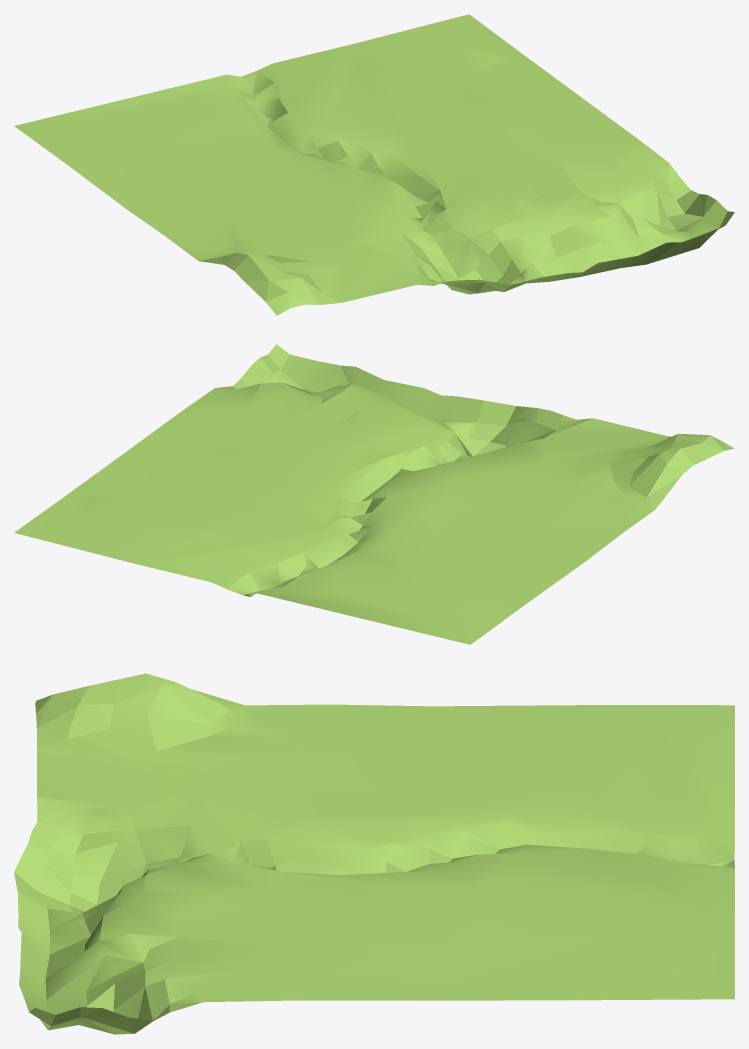
File: LP-Terrain-Mod2.fbx
3 renders of one model, top to bottom at view 1: azimuth 30°, elevation 25°; view 2: azimuth 150°, elevation 25°; view 3: azimuth 270°, elevation 25°, orthographic. The views are drawn at different scales.
Visible parts, largest first — view 1: LowpolyTerrain; view 2: LowpolyTerrain; view 3: LowpolyTerrain.
Part boxes in pixels (x1=…): LowpolyTerrain: x1=14, y1=14, x2=734, y2=315; LowpolyTerrain: x1=14, y1=344, x2=734, y2=644; LowpolyTerrain: x1=14, y1=673, x2=734, y2=1034.
Size of the model in its own units: 10102 by 1611 by 10330.
